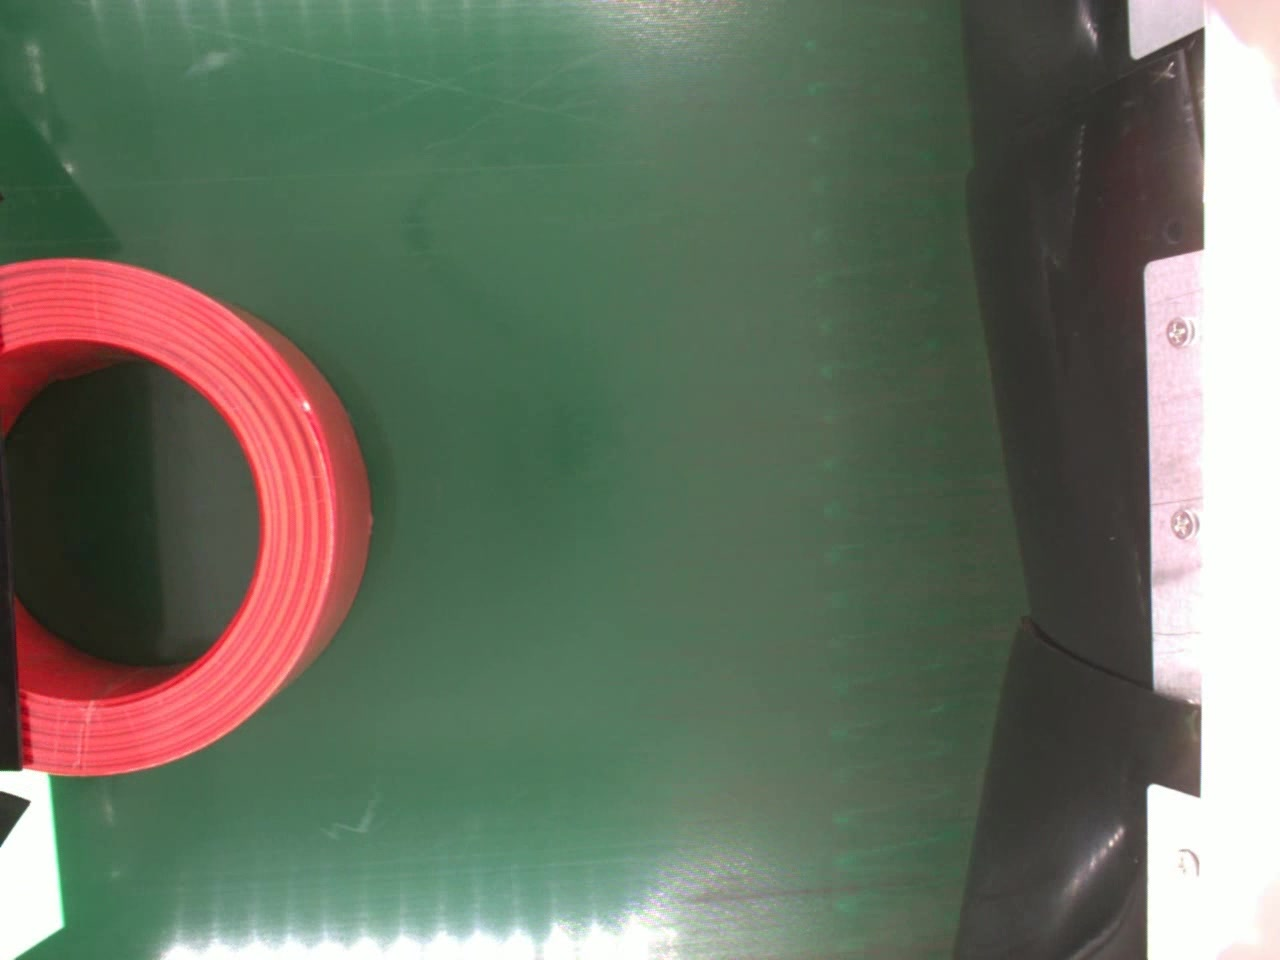red: (0, 255, 373, 781)
